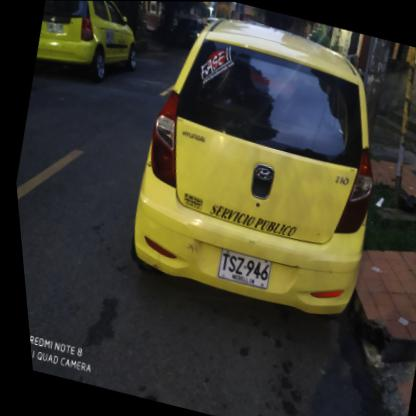placa: (206, 245, 273, 294)
